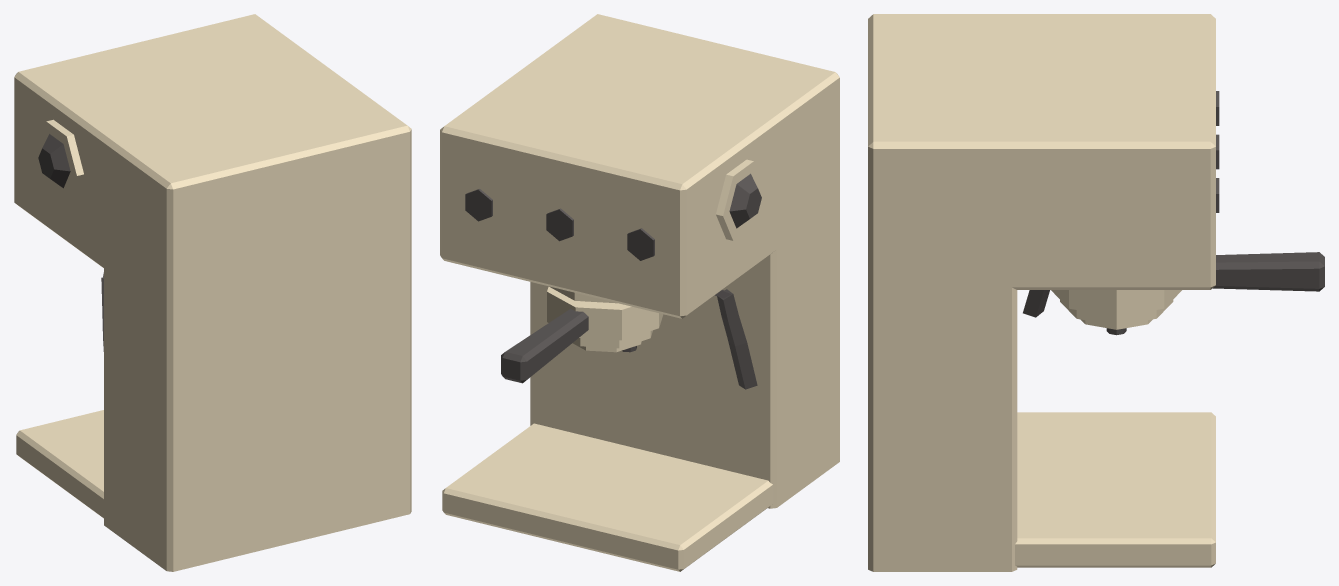
The model's file is coffee-machine.glb.
3 views of the same model, side by side, from view 1: azimuth 30°, elevation 25°; view 2: azimuth 150°, elevation 25°; view 3: azimuth 270°, elevation 25° (orthographic). The views are drawn at different scales.
Visible parts, largest first — view 1: CoffeeMachine1, FilterHolder1CoffeeMachine1; view 2: CoffeeMachine1, FilterHolder1CoffeeMachine1; view 3: CoffeeMachine1, FilterHolder1CoffeeMachine1.
Part boxes in pixels (x1,y1,x2,y2): CoffeeMachine1: [14, 14, 411, 571]; FilterHolder1CoffeeMachine1: [38, 134, 103, 351]; CoffeeMachine1: [440, 14, 839, 571]; FilterHolder1CoffeeMachine1: [465, 173, 761, 389]; CoffeeMachine1: [868, 14, 1215, 571]; FilterHolder1CoffeeMachine1: [1023, 91, 1324, 335].
Bounding box in the file's own units: 0.6518 × 0.9172 × 0.8874.
